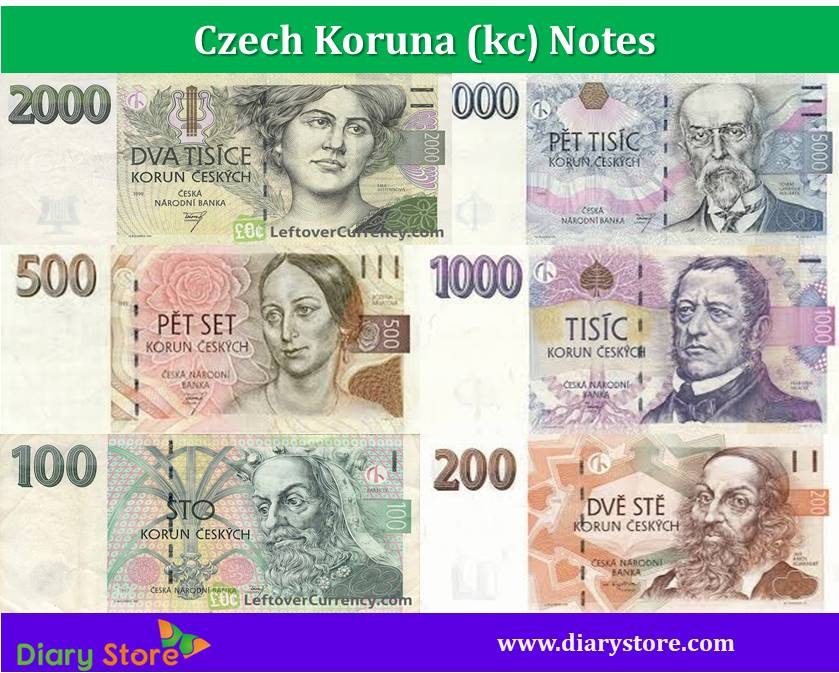czech_koruna_500: (2, 245, 416, 433)
